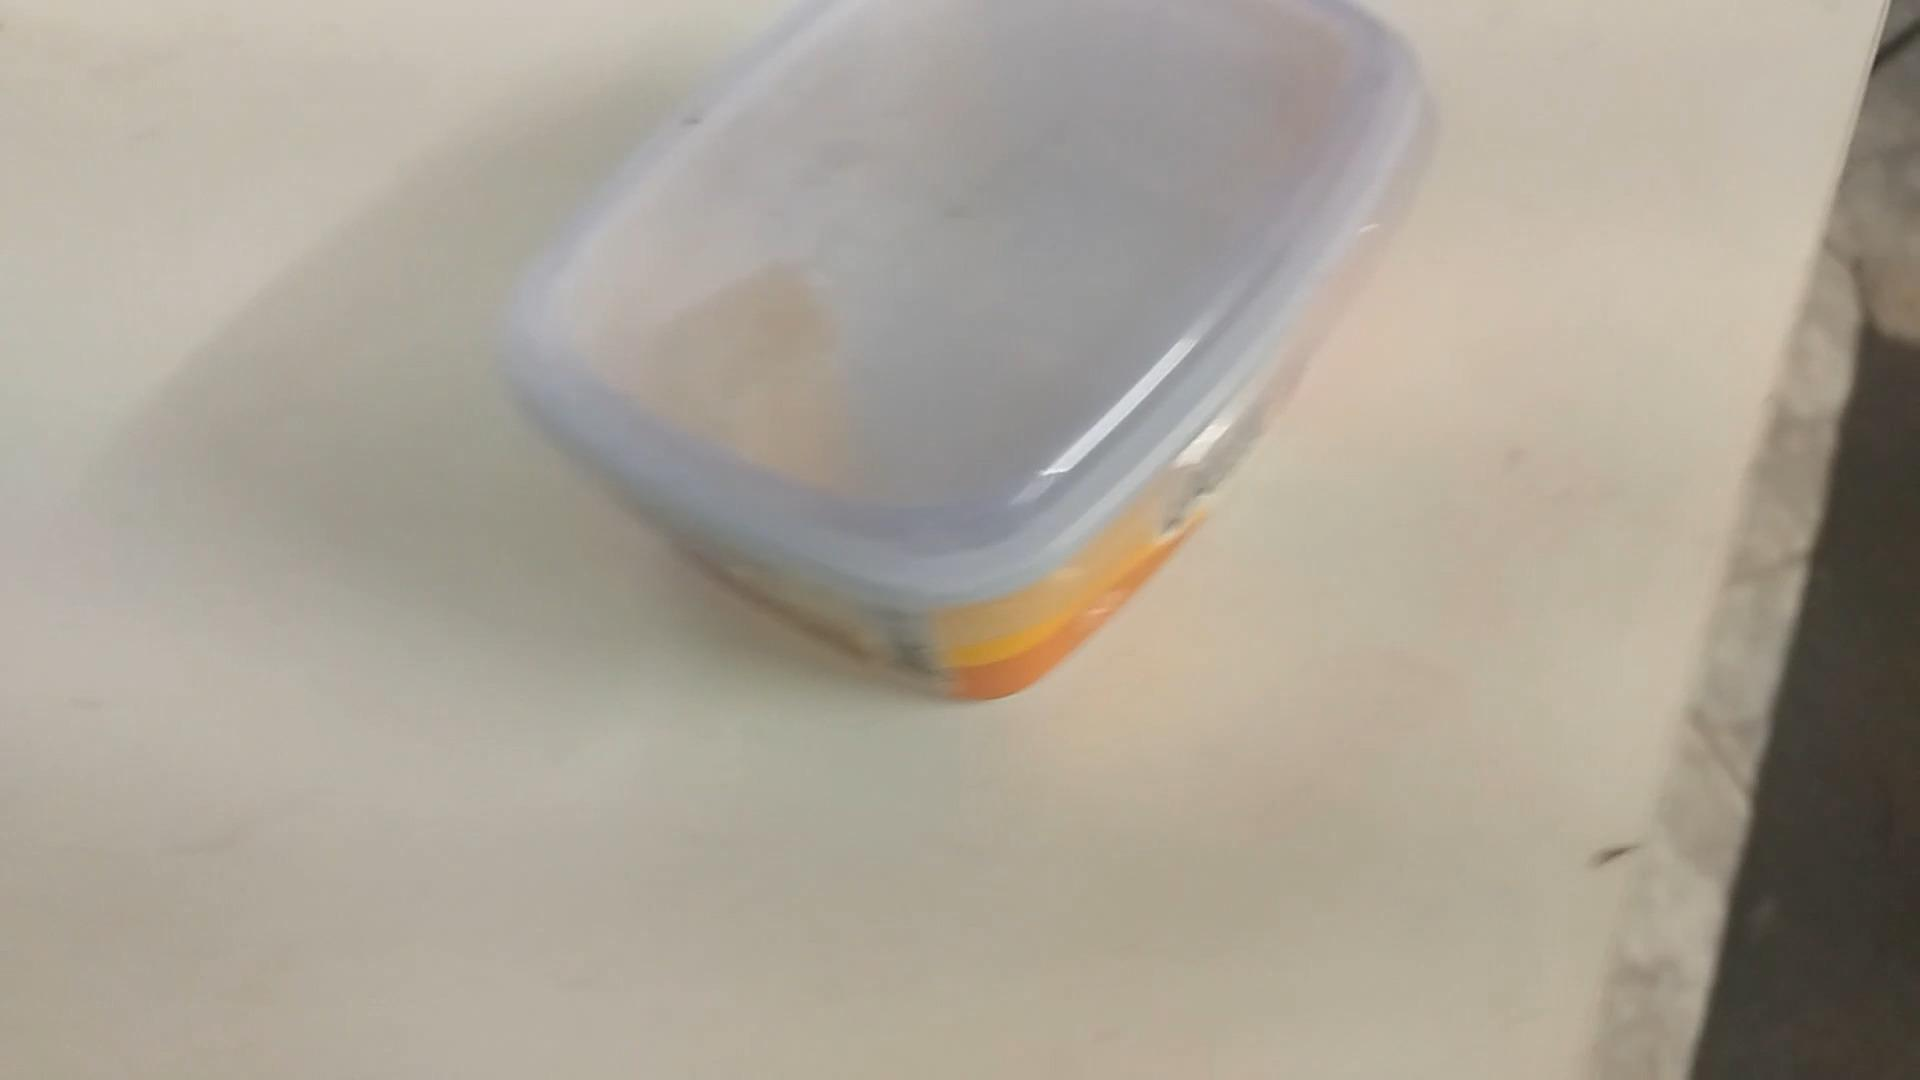butter: (495, 0, 1419, 702)
